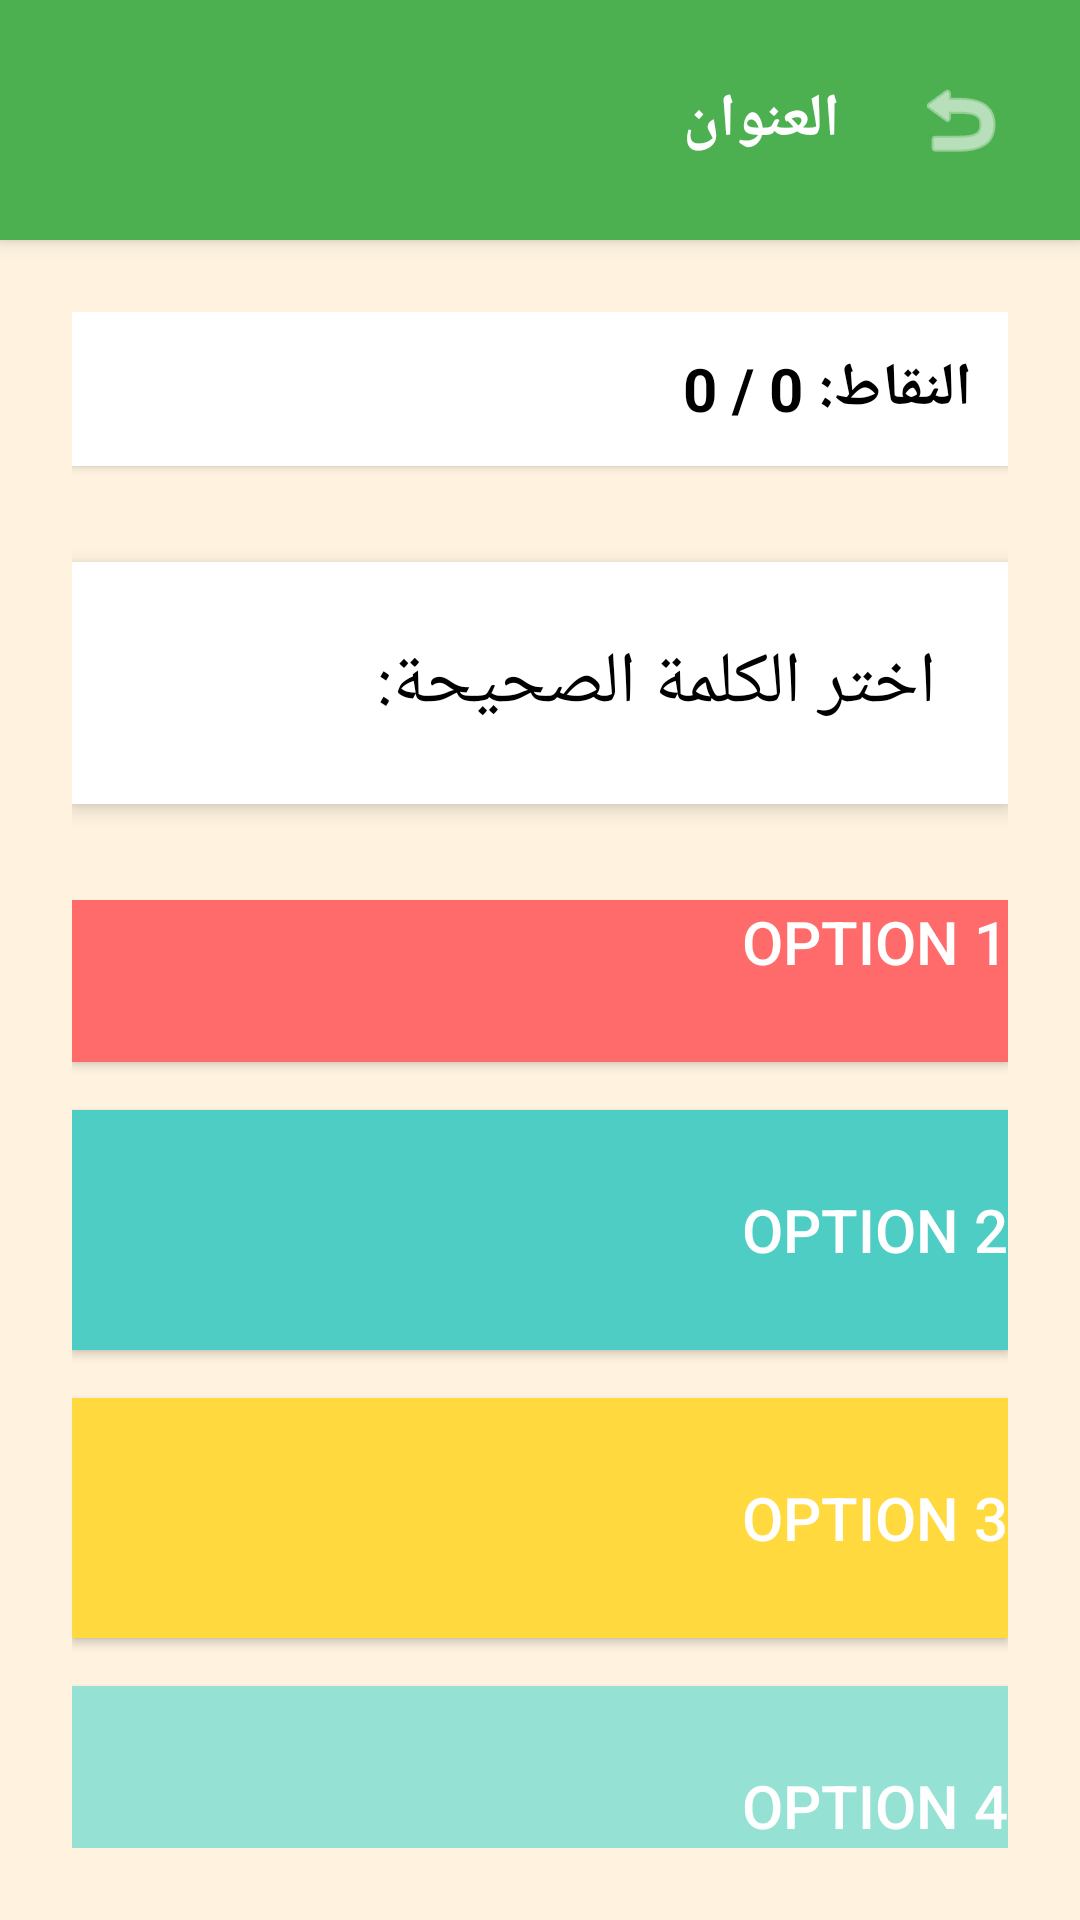

Icons on this 1080 x 1920 Android screen, each with the point to tap as (x,y):
رجوع: (961,120)
